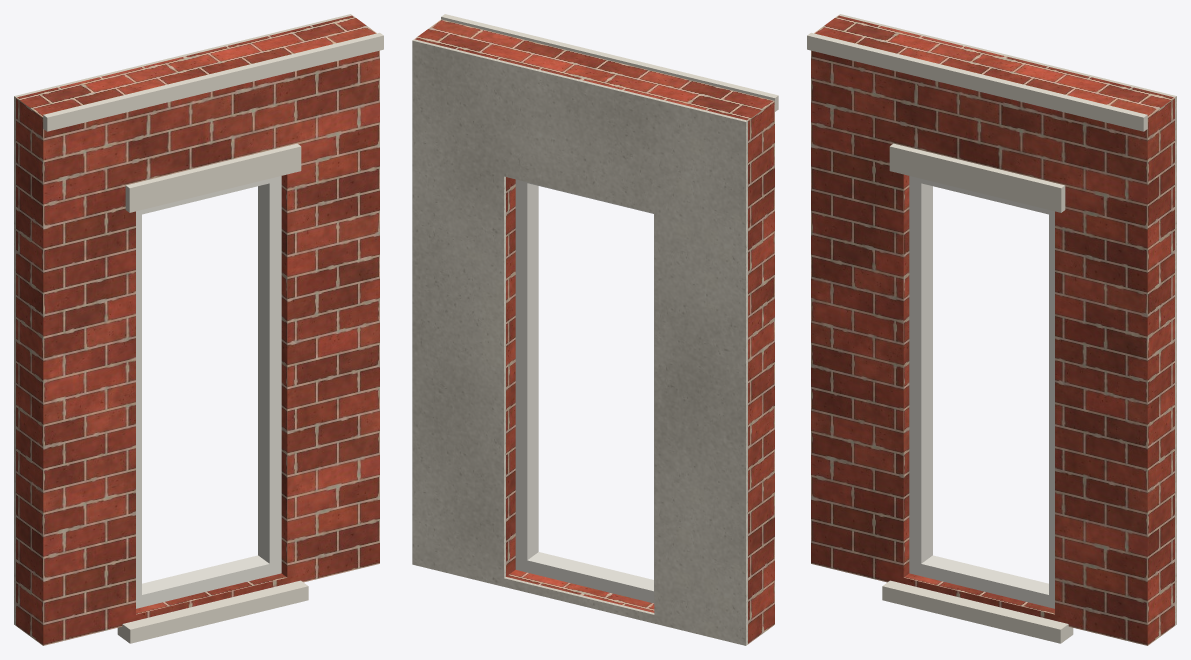
Rendered from wall_brick_balcony_door.glb.
The picture shows the model from 3 angles, left to right: view 1: azimuth 30°, elevation 25°; view 2: azimuth 150°, elevation 25°; view 3: azimuth 330°, elevation 25°; orthographic projection.
Parts seen in each view (by area): view 1: wall_brick_balcony_door_brick, wall_brick_balcony_door_trim, wall_brick_balcony_door_frame, wall_brick_balcony_door_plaster; view 2: wall_brick_balcony_door_plaster, wall_brick_balcony_door_brick, wall_brick_balcony_door_frame, wall_brick_balcony_door_trim; view 3: wall_brick_balcony_door_brick, wall_brick_balcony_door_trim, wall_brick_balcony_door_frame, wall_brick_balcony_door_plaster.
Boxes of the visible parts, <box> form: wall_brick_balcony_door_brick: <box>16,15,379,645</box>; wall_brick_balcony_door_trim: <box>43,32,383,643</box>; wall_brick_balcony_door_frame: <box>136,176,281,608</box>; wall_brick_balcony_door_plaster: <box>14,14,352,625</box>; wall_brick_balcony_door_plaster: <box>412,39,747,645</box>; wall_brick_balcony_door_brick: <box>414,19,774,644</box>; wall_brick_balcony_door_frame: <box>515,179,654,603</box>; wall_brick_balcony_door_trim: <box>441,14,778,111</box>; wall_brick_balcony_door_brick: <box>811,15,1174,645</box>; wall_brick_balcony_door_trim: <box>807,32,1147,643</box>; wall_brick_balcony_door_frame: <box>909,176,1054,608</box>; wall_brick_balcony_door_plaster: <box>838,14,1176,625</box>.
Size of the model in its own units: 2 by 3.08 by 0.38.
Materials: 4 (2 with a texture image).
